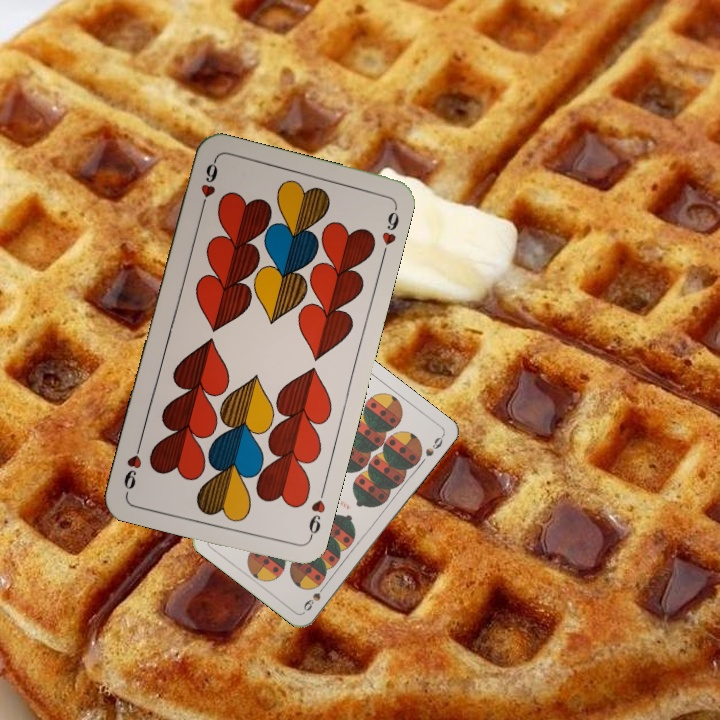H9: (196, 157, 221, 215), (304, 484, 328, 543)
S9: (299, 580, 329, 614)
